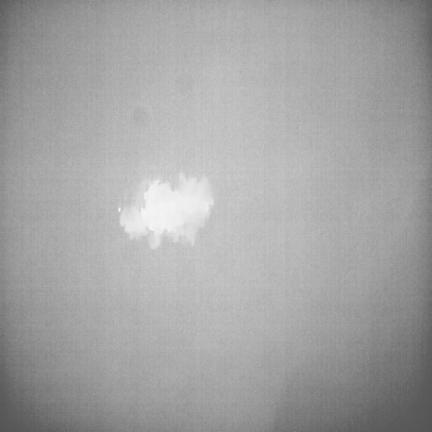flukeprints: (120, 173, 213, 248)
